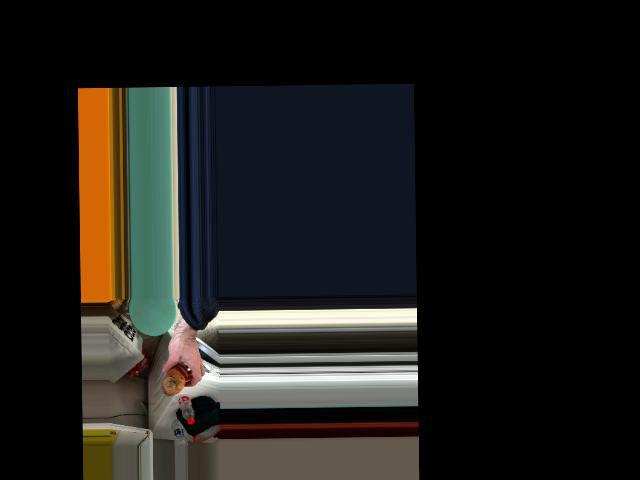sweet_potato: (161, 361, 190, 396)
